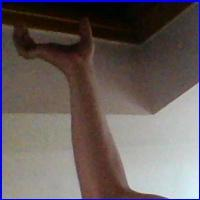space: (8, 14, 100, 77)
